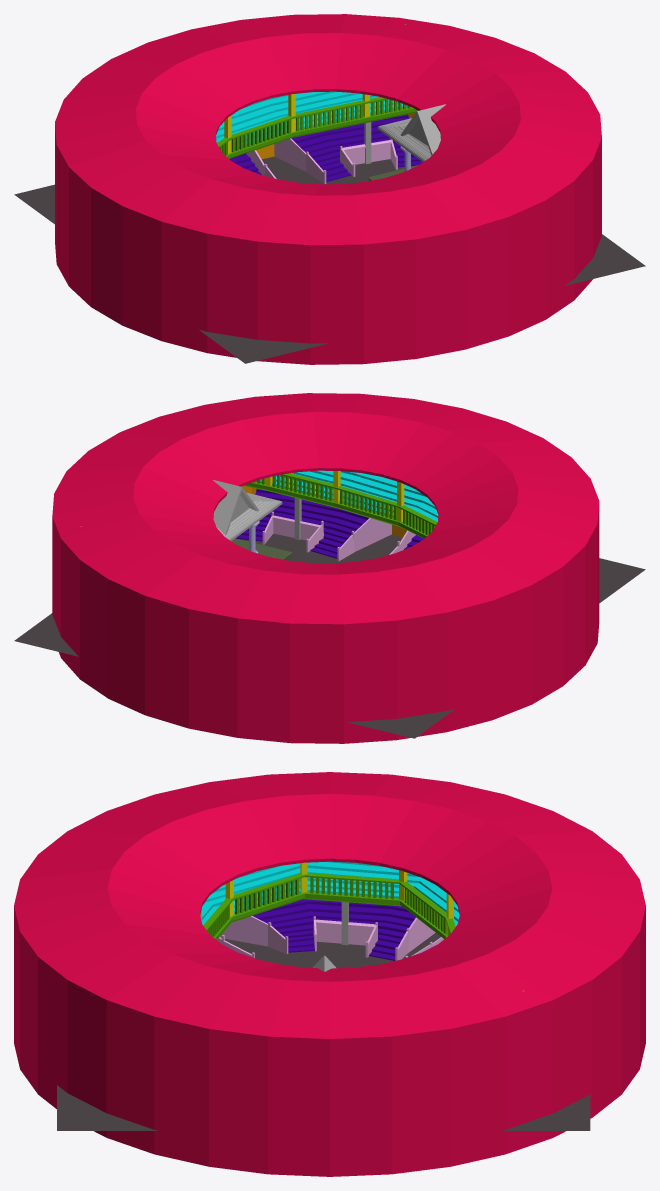
The model's file is TheGlobe_low.fbx.
3 renders of one model, top to bottom at view 1: azimuth 30°, elevation 25°; view 2: azimuth 150°, elevation 25°; view 3: azimuth 270°, elevation 25°, orthographic. The views are drawn at different scales.
Visible parts, largest first — view 1: Roof_low, Ground_low, polySurface74, Stairs5, stageroof, pCube290, polySurface85, polySurface80, polySurface90, pCube34, Railing9; view 2: Roof_low, Ground_low, Stairs1, polySurface74, stageroof, pCube33, polySurface50, pCube312, pCube314, pCube292; view 3: Roof_low, Ground_low, Stairs3, polySurface74, pCube278, pCube318, polySurface60, polySurface77, Railing6.
Part boxes in pixels (x1=…): Roof_low: x1=55, y1=14, x2=601, y2=364; Ground_low: x1=14, y1=156, x2=645, y2=363; polySurface74: x1=216, y1=91, x2=407, y2=149; Stairs5: x1=291, y1=114, x2=422, y2=182; stageroof: x1=377, y1=118, x2=431, y2=161; pCube290: x1=342, y1=140, x2=391, y2=164; polySurface85: x1=231, y1=122, x2=282, y2=152; polySurface80: x1=274, y1=138, x2=306, y2=171; polySurface90: x1=296, y1=106, x2=353, y2=131; pCube34: x1=416, y1=104, x2=445, y2=155; Railing9: x1=292, y1=116, x2=368, y2=137; Roof_low: x1=52, y1=393, x2=599, y2=743; Ground_low: x1=14, y1=533, x2=645, y2=738; Stairs1: x1=236, y1=489, x2=368, y2=558; polySurface74: x1=256, y1=470, x2=438, y2=521; stageroof: x1=216, y1=493, x2=282, y2=541; pCube33: x1=213, y1=480, x2=241, y2=534; polySurface50: x1=354, y1=518, x2=391, y2=551; pCube312: x1=340, y1=490, x2=396, y2=520; pCube314: x1=272, y1=475, x2=332, y2=501; pCube292: x1=272, y1=515, x2=320, y2=540; Roof_low: x1=14, y1=772, x2=645, y2=1176; Ground_low: x1=57, y1=933, x2=590, y2=1130; Stairs3: x1=252, y1=899, x2=415, y2=960; polySurface74: x1=202, y1=861, x2=459, y2=926; pCube278: x1=316, y1=919, x2=375, y2=945; pCube318: x1=235, y1=879, x2=299, y2=914; polySurface60: x1=220, y1=916, x2=268, y2=946; polySurface77: x1=310, y1=877, x2=382, y2=898; Railing6: x1=304, y1=891, x2=401, y2=906.
Bounding box in the file's own units: 404 × 115 × 404.
